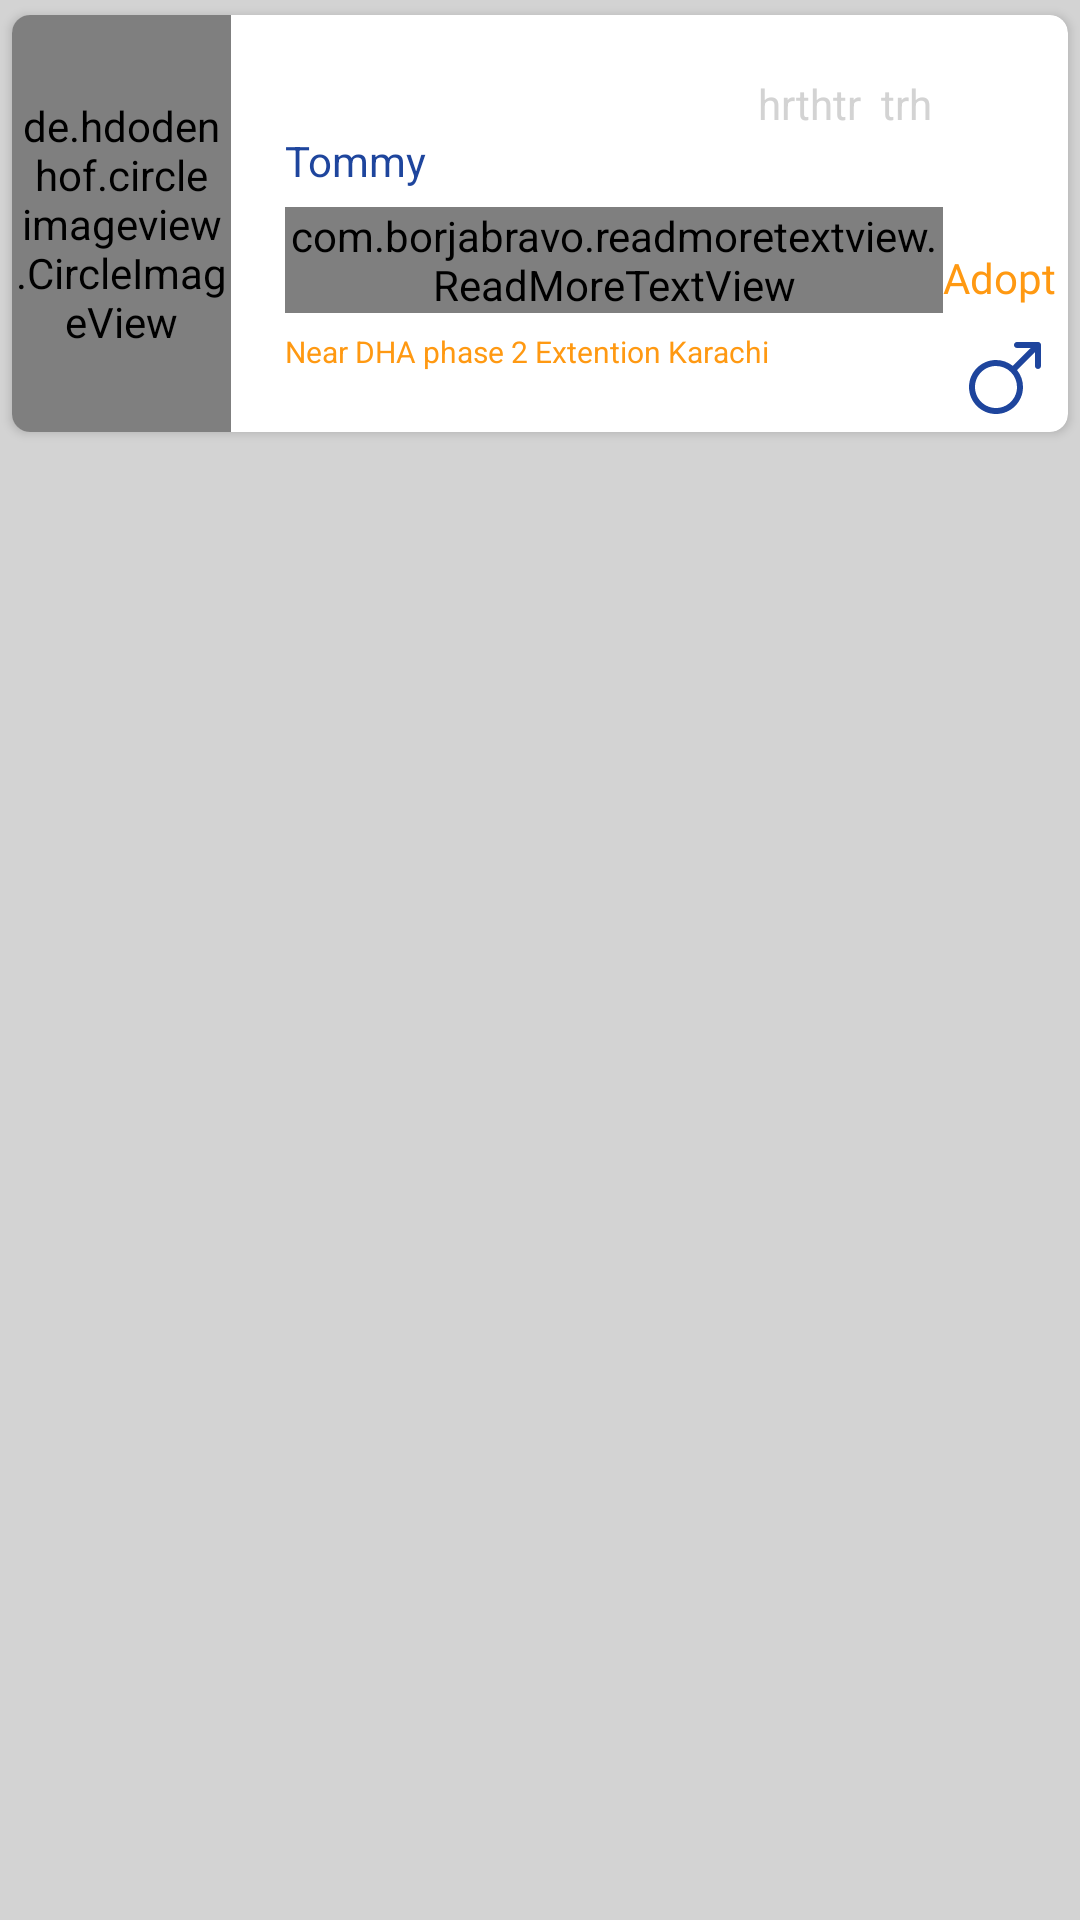

Icon bounding boxes for this 1080x1920 phone screenshot, format bbox=[x1, y1, x2, y2]:
male: bbox=[969, 342, 1041, 414]
